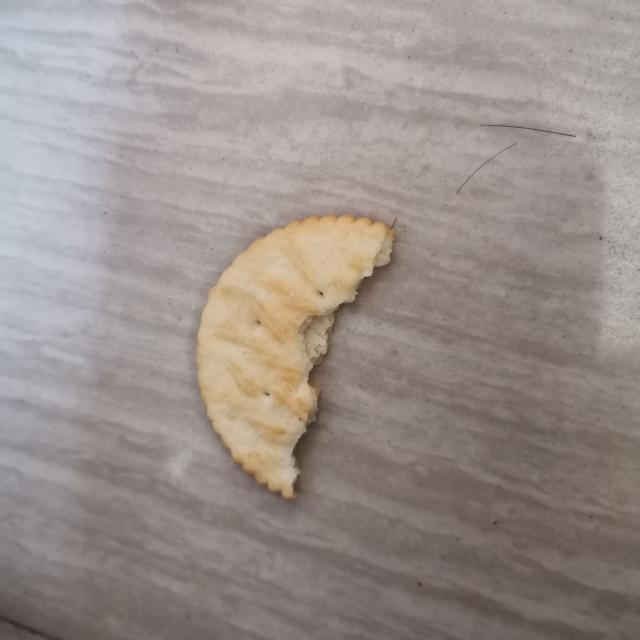Broken: (195, 212, 397, 500)
